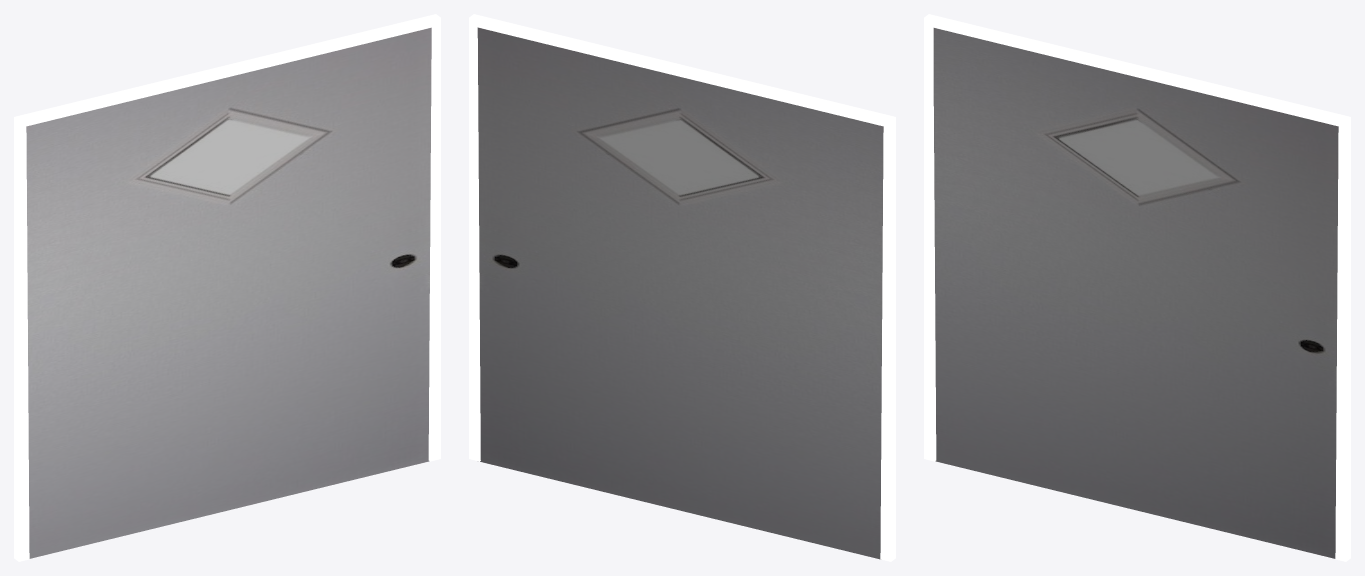
File: AdimaondWindowsDoor.df791a8b.gltf
The picture shows the model from 3 angles, left to right: view 1: azimuth 30°, elevation 25°; view 2: azimuth 150°, elevation 25°; view 3: azimuth 330°, elevation 25°; orthographic projection.
Visible parts, largest first — view 1: Cube.001, Cube.002; view 2: Cube.001, Cube.002; view 3: Cube.001, Cube.002.
Part boxes in pixels (box(x1,y1,x2,y2)): Cube.001: box(26, 27, 431, 558); Cube.002: box(14, 14, 440, 561); Cube.001: box(477, 27, 883, 559); Cube.002: box(469, 14, 895, 561); Cube.001: box(933, 28, 1338, 558); Cube.002: box(924, 14, 1350, 561).
Bounding box in the file's own units: 6 × 6.02 × 0.12.
Materials: 2 (1 with a texture image).
